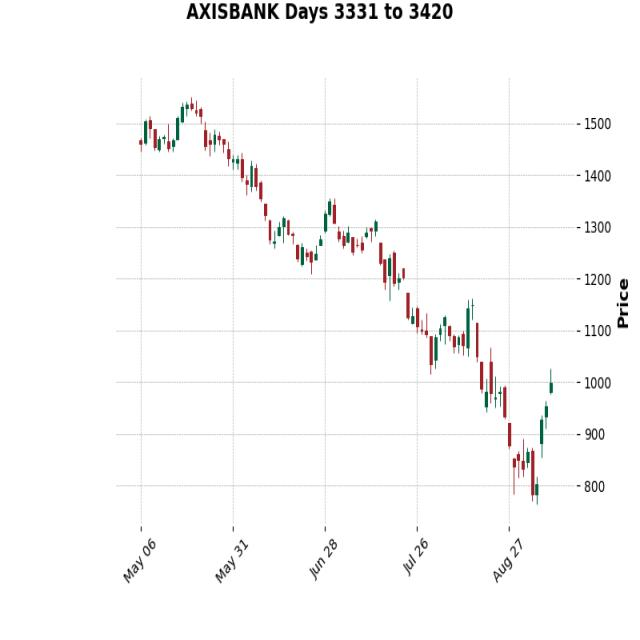Symmetric Triangle: (453, 310, 574, 509)
